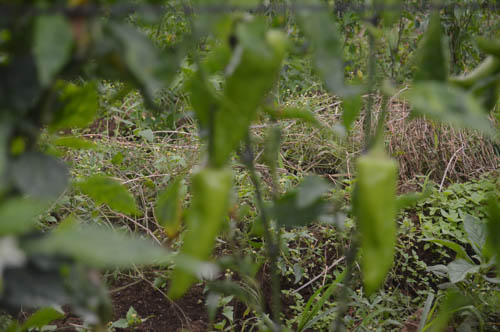ChiliPepper: (210, 33, 286, 168), (170, 168, 231, 299), (352, 156, 399, 299)
